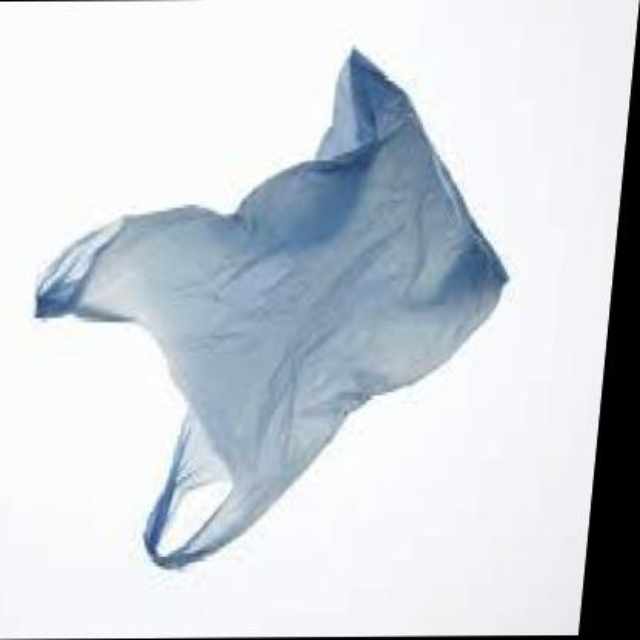trash: (35, 49, 506, 566)
